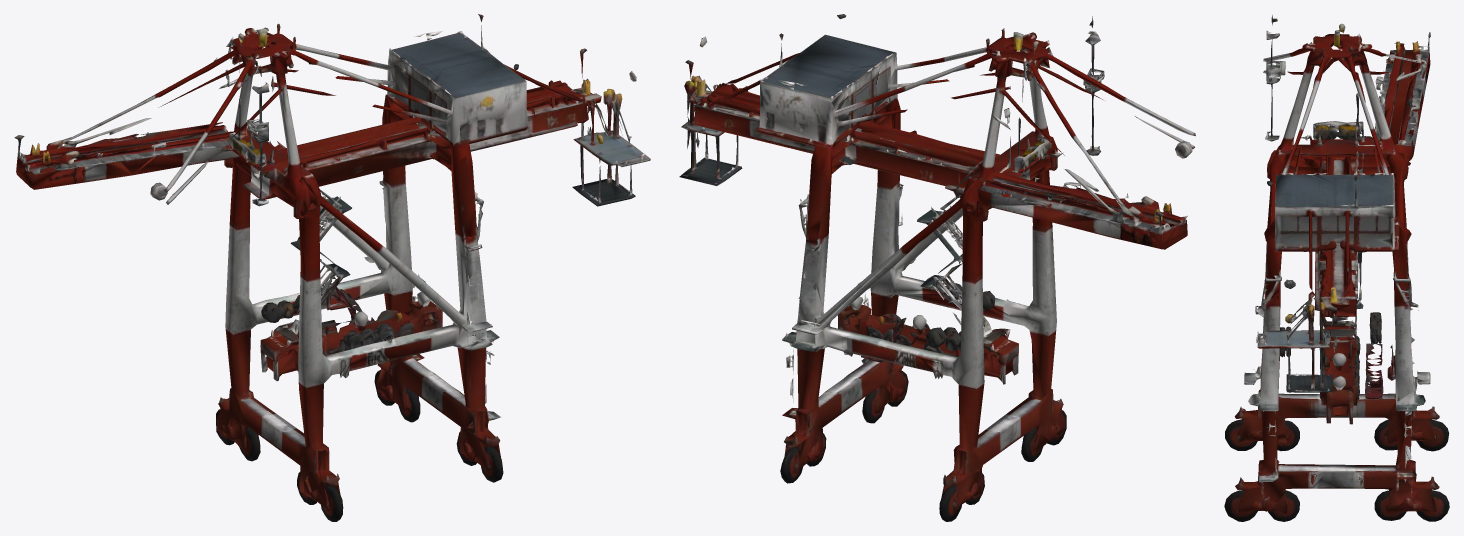
File: lm_crane.glb
3 renders of one model, left to right at view 1: azimuth 30°, elevation 25°; view 2: azimuth 150°, elevation 25°; view 3: azimuth 270°, elevation 25°, orthographic. The views are drawn at different scales.
Visible parts, largest first — view 1: geometry_0; view 2: geometry_0; view 3: geometry_0.
Part boxes in pixels (x1,y1,x2,y2): geometry_0: [14, 14, 650, 521]; geometry_0: [679, 14, 1195, 521]; geometry_0: [1224, 15, 1449, 521].
Size of the model in its own units: 1 by 0.7983 by 0.3945.
1 material, 1 textured.
